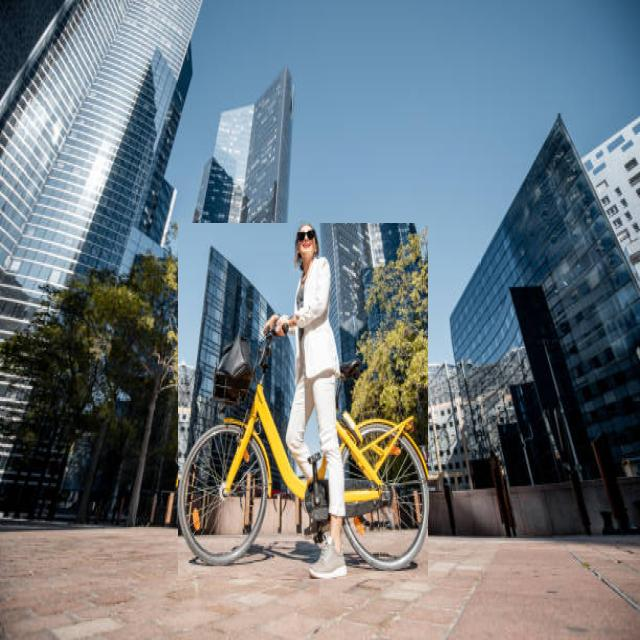bicycle: (179, 223, 428, 579)
